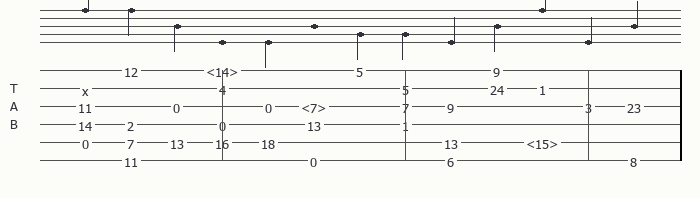0: (82, 136, 93, 149), (173, 100, 184, 113), (219, 118, 230, 131), (265, 100, 276, 113), (310, 154, 321, 167)
1: (402, 118, 413, 131), (539, 82, 550, 95)
11: (78, 100, 96, 113), (124, 154, 142, 167)
12: (124, 64, 142, 77)
13: (170, 136, 188, 149), (307, 118, 325, 131), (444, 136, 462, 149)
14: (78, 118, 96, 131)
16: (215, 136, 233, 149)
18: (261, 136, 279, 149)
2: (127, 118, 138, 131)
23: (627, 100, 645, 113)
24: (490, 82, 508, 95)
3: (585, 100, 596, 113)
4: (219, 82, 230, 95)
5: (356, 64, 367, 77), (402, 82, 413, 95)
6: (447, 154, 458, 167)
7: (127, 136, 138, 149), (402, 100, 413, 113)
8: (630, 154, 641, 167)
9: (447, 100, 458, 113), (493, 64, 504, 77)
harmonic: (206, 64, 242, 77), (526, 136, 562, 149), (301, 100, 330, 113)
x: (82, 83, 93, 94)
